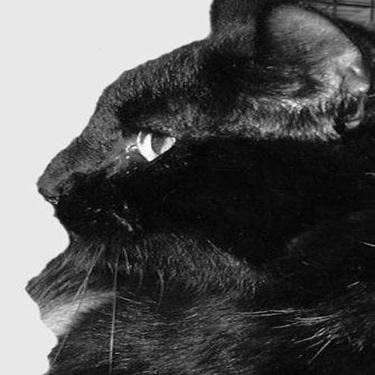cat: (20, 4, 364, 360)
